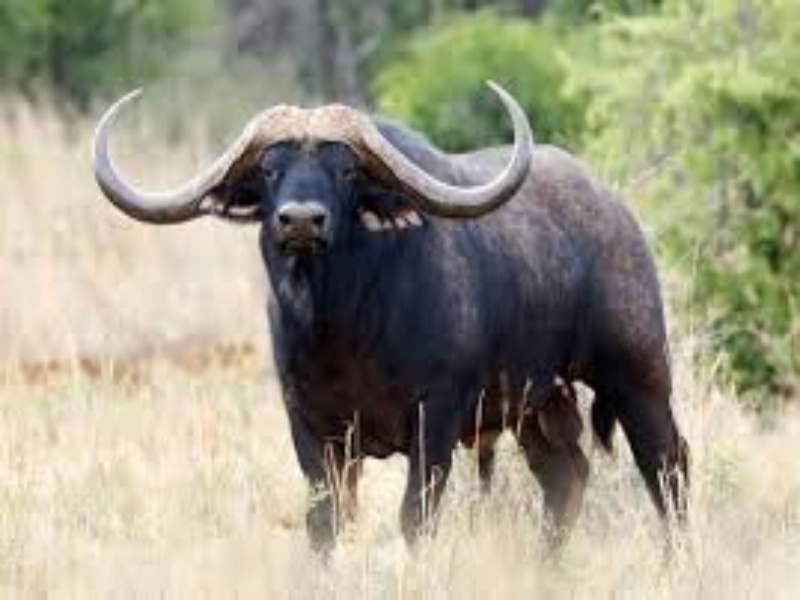buffalo: (86, 77, 711, 542)
